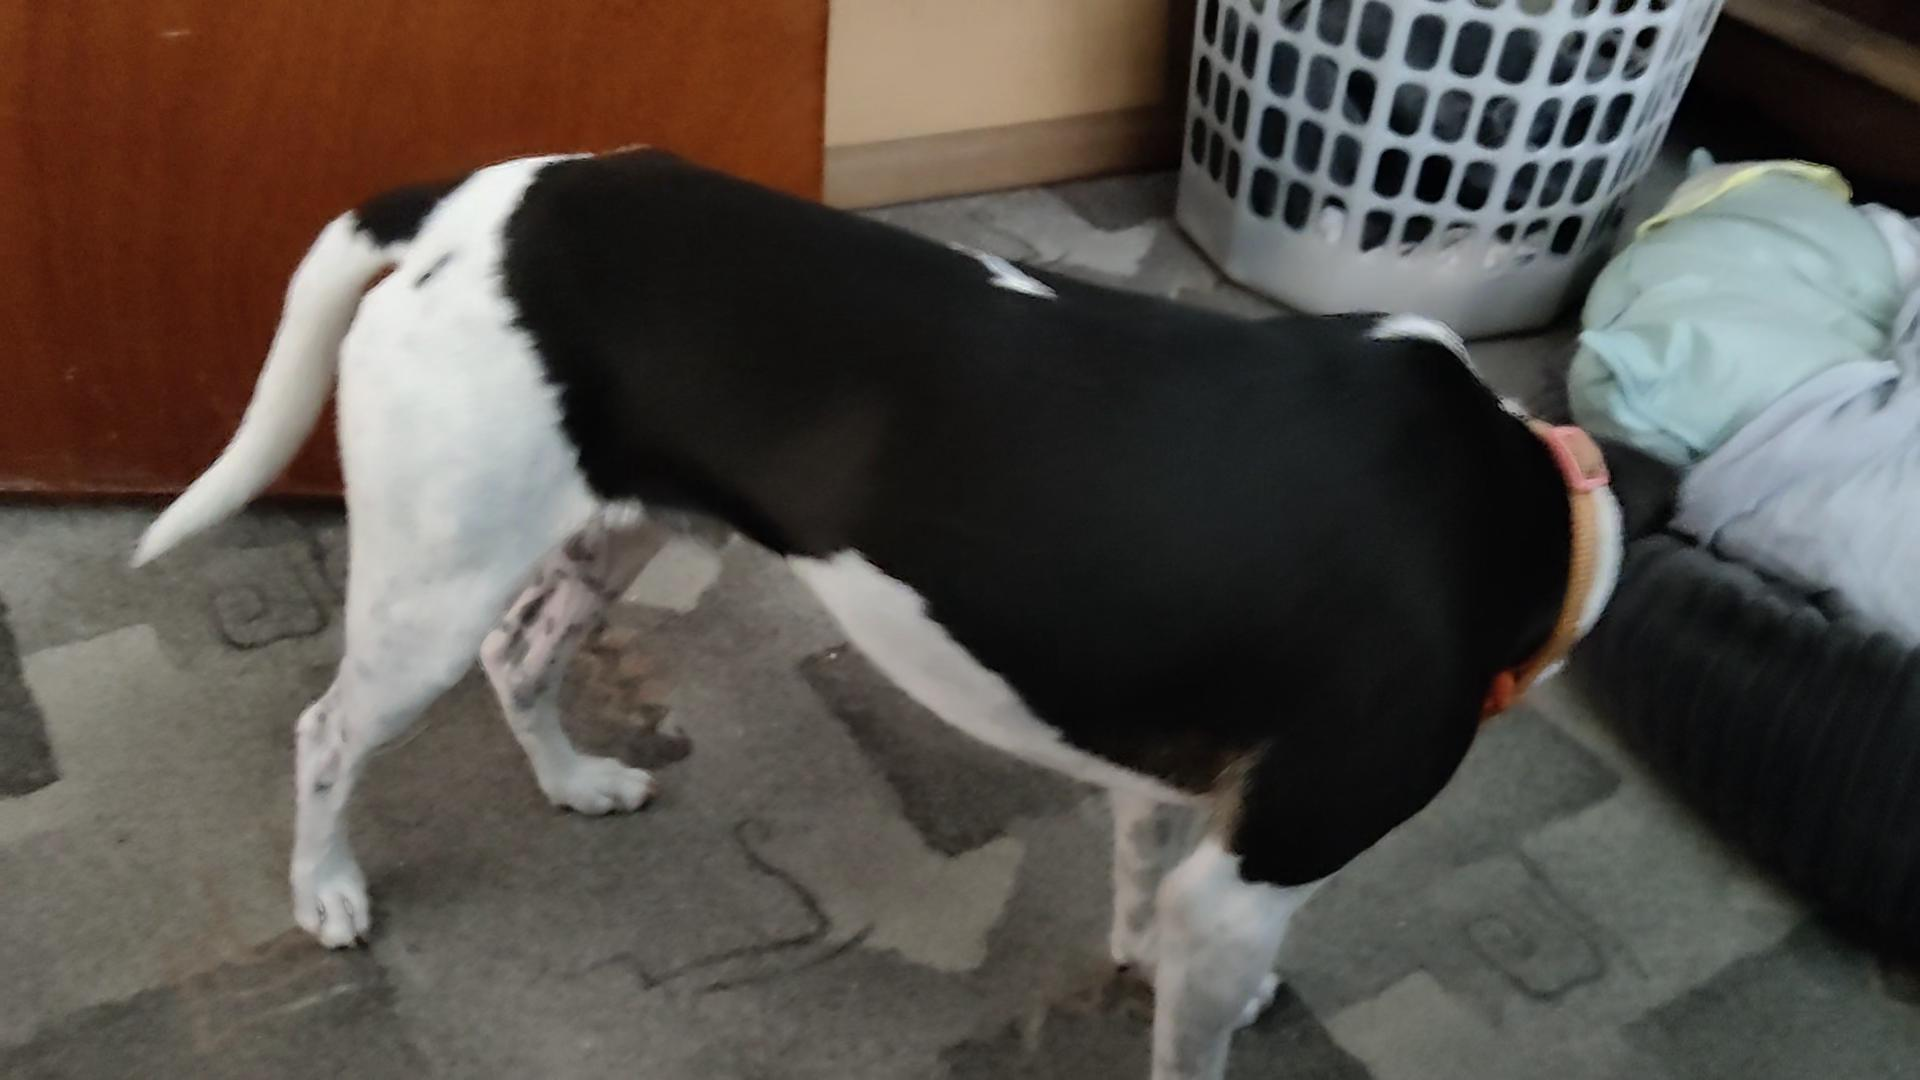Dog: (117, 131, 1700, 1079)
